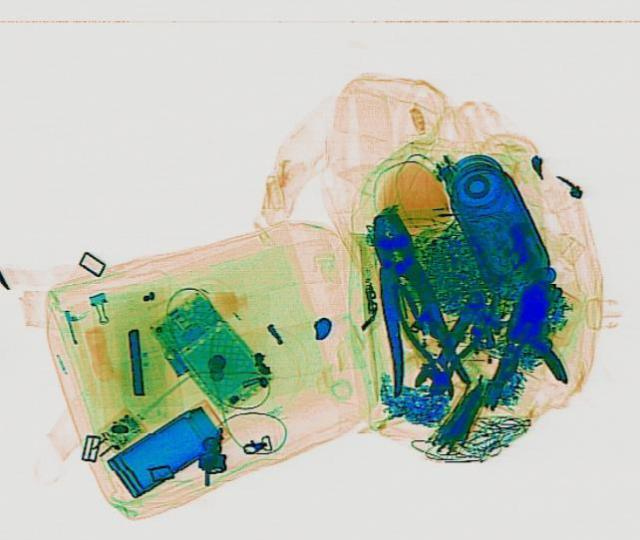Pliers: (341, 206, 471, 396), (377, 285, 499, 398)
Wrench: (410, 282, 496, 391)
